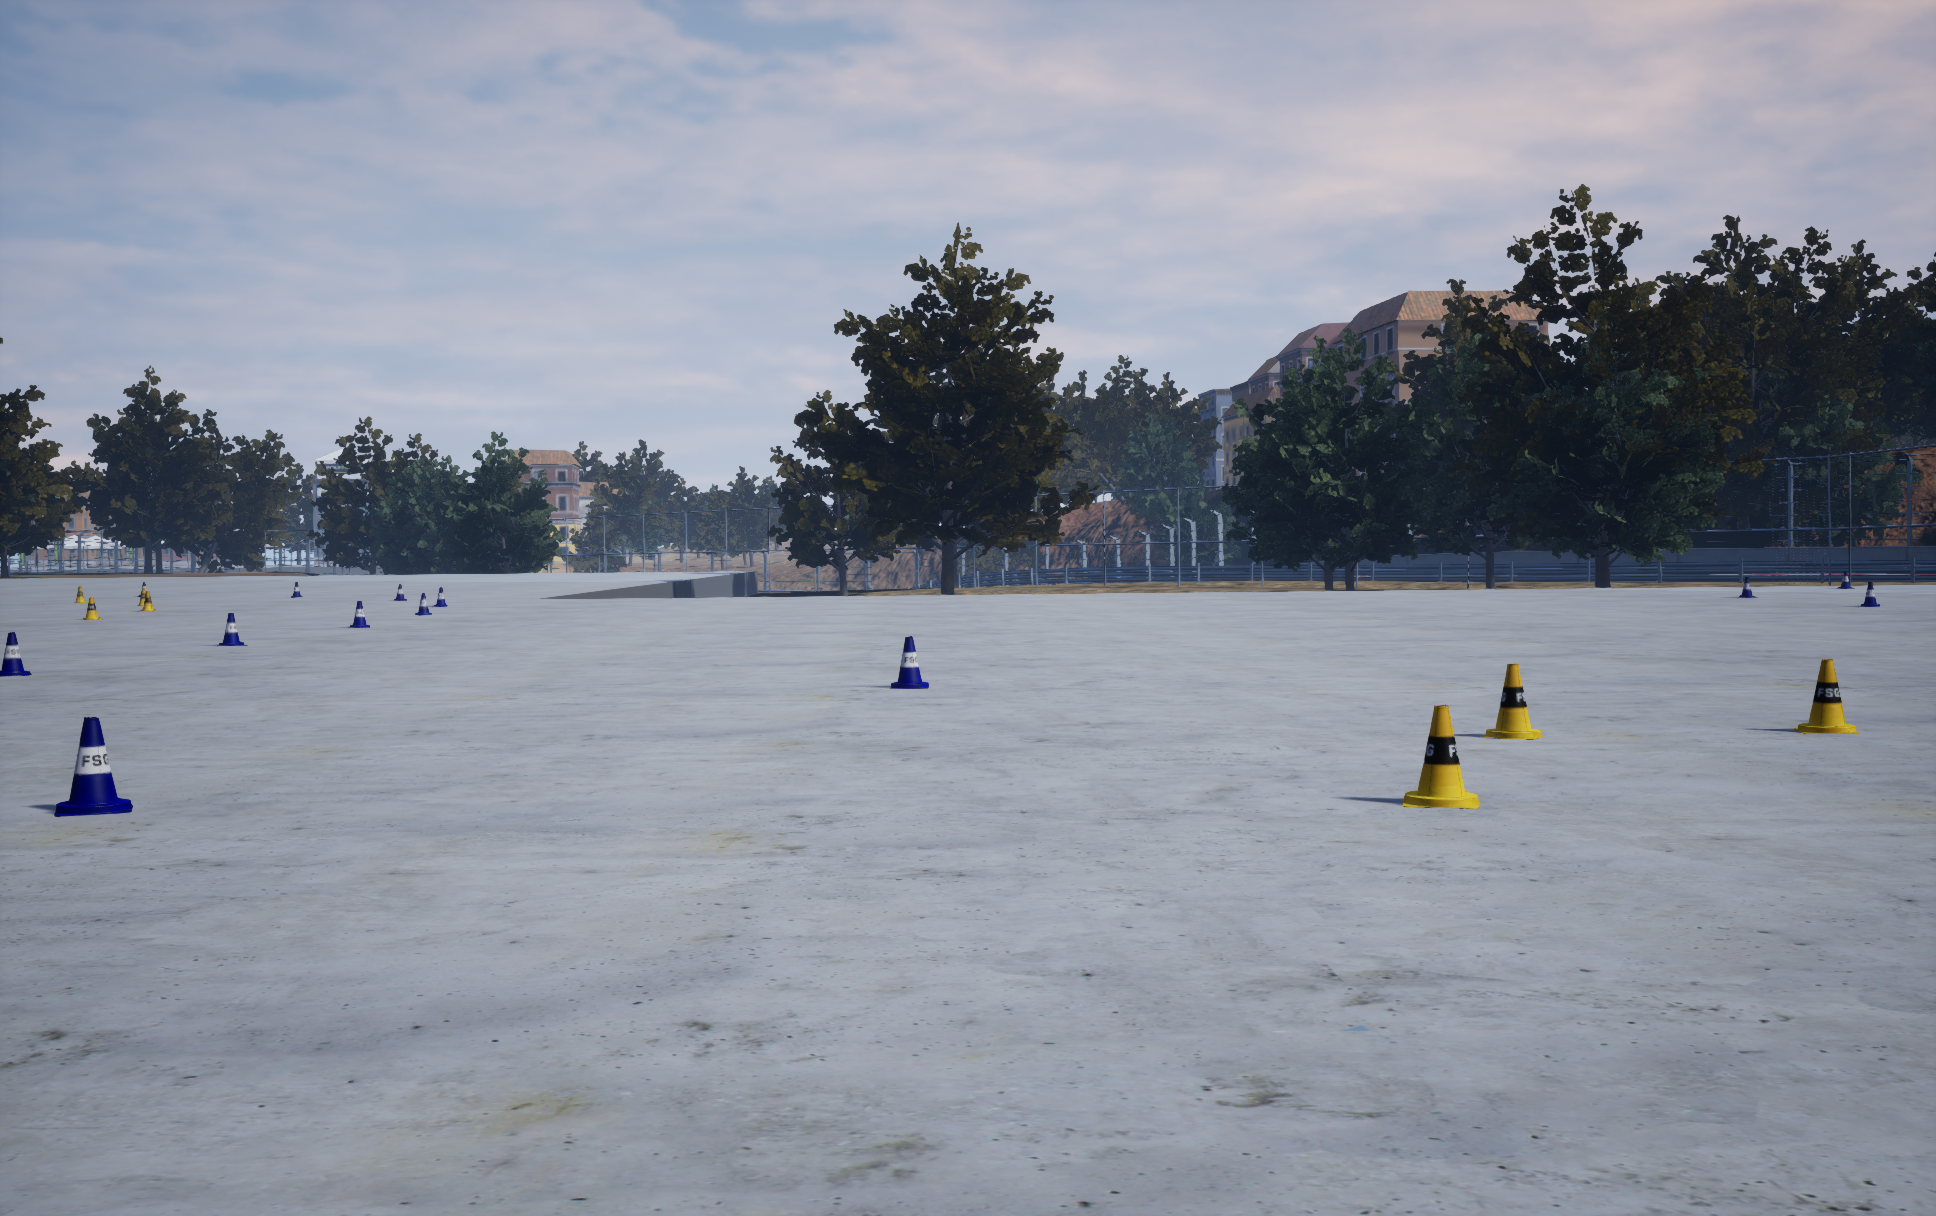blue: (1402, 705, 1479, 808), (1481, 664, 1545, 740), (1795, 658, 1859, 733), (83, 597, 102, 619), (139, 591, 155, 611)
yellow: (55, 717, 132, 815), (890, 636, 927, 688), (0, 632, 31, 677), (219, 614, 247, 644), (349, 601, 368, 628), (1859, 581, 1879, 607), (415, 593, 431, 615), (1738, 577, 1757, 597), (433, 587, 447, 607)
